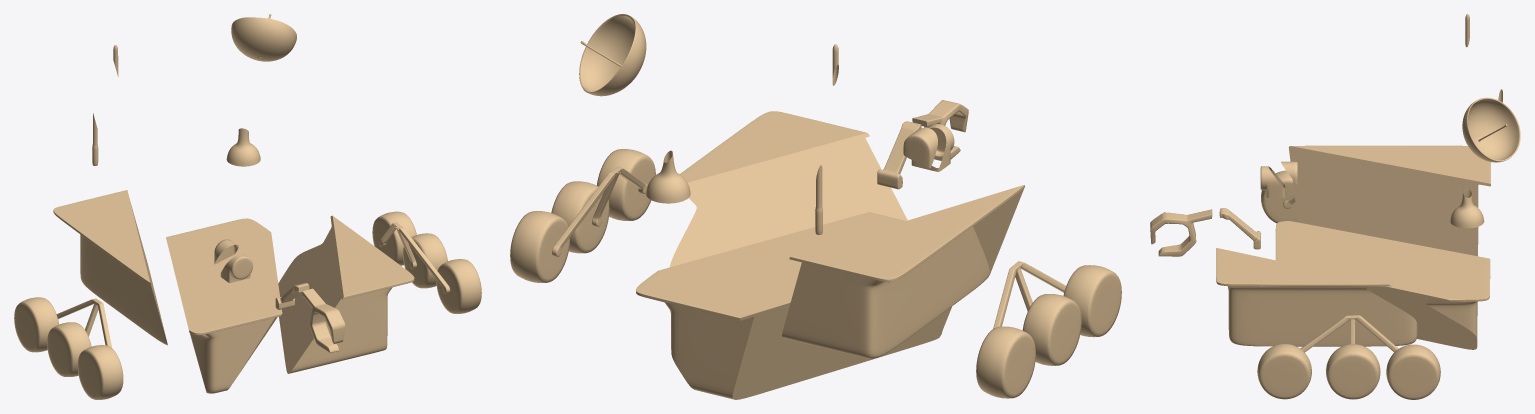
Rendered from FINAL_Rover_voronoifracture.fbx.
3 renders of one model, left to right at view 1: azimuth 30°, elevation 25°; view 2: azimuth 150°, elevation 25°; view 3: azimuth 270°, elevation 25°, orthographic. The views are drawn at different scales.
Parts seen in each view (by area): view 1: main_body_middle, main_body_Left, main_body_Right, satelitte_top, FR_Wheel, FL_Wheel, BR_Wheel, MR_Wheel, Arm_part2, ML_Wheel, BL_Wheel, WheelForkLeft (+5 smaller); view 2: main_body_Right, main_body_middle, main_body_Left, satelitte_top, BR_Wheel, BL_Wheel, MR_Wheel, FR_Wheel, FL_Wheel, ML_Wheel, WheelForkLeft, Satelitte_bottom (+5 smaller); view 3: main_body_Right, main_body_middle, main_body_Left, satelitte_top, BL_Wheel, FL_Wheel, ML_Wheel, Arm_part2, FR_Wheel, WheelForkLeft, Satelitte_bottom, Light_Part_2 (+1 smaller).
Boxes of the visible parts, box(x1,y1,x2,y2) form: main_body_middle: box(166, 218, 282, 393); main_body_Left: box(278, 215, 414, 373); main_body_Right: box(53, 190, 167, 345); satelitte_top: box(231, 14, 296, 61); FR_Wheel: box(77, 345, 123, 399); FL_Wheel: box(436, 259, 481, 313); BR_Wheel: box(14, 297, 58, 352); MR_Wheel: box(47, 322, 91, 376); Arm_part2: box(302, 288, 345, 352); ML_Wheel: box(403, 233, 447, 288); BL_Wheel: box(372, 211, 416, 265); WheelForkLeft: box(378, 222, 450, 293); main_body_Right: box(782, 185, 1024, 358); main_body_middle: box(636, 212, 951, 399); main_body_Left: box(670, 111, 907, 267); satelitte_top: box(579, 14, 646, 96); BR_Wheel: box(976, 326, 1035, 398); BL_Wheel: box(510, 211, 569, 282); MR_Wheel: box(1022, 294, 1081, 365); FR_Wheel: box(1063, 265, 1121, 337); FL_Wheel: box(596, 149, 655, 220); ML_Wheel: box(551, 181, 609, 253); WheelForkLeft: box(552, 167, 647, 256); Satelitte_bottom: box(646, 150, 690, 203); main_body_Right: box(1288, 145, 1490, 256); main_body_middle: box(1275, 221, 1490, 349); main_body_Left: box(1216, 248, 1417, 346); satelitte_top: box(1462, 97, 1520, 162); BL_Wheel: box(1386, 344, 1440, 399); FL_Wheel: box(1257, 344, 1311, 399); ML_Wheel: box(1326, 344, 1380, 399); Arm_part2: box(1150, 209, 1212, 256); FR_Wheel: box(1261, 170, 1297, 223); WheelForkLeft: box(1300, 315, 1398, 352); Satelitte_bottom: box(1450, 188, 1484, 228); Light_Part_2: box(1260, 166, 1285, 197).
Bounding box in the file's own units: 192 × 140 × 163.
